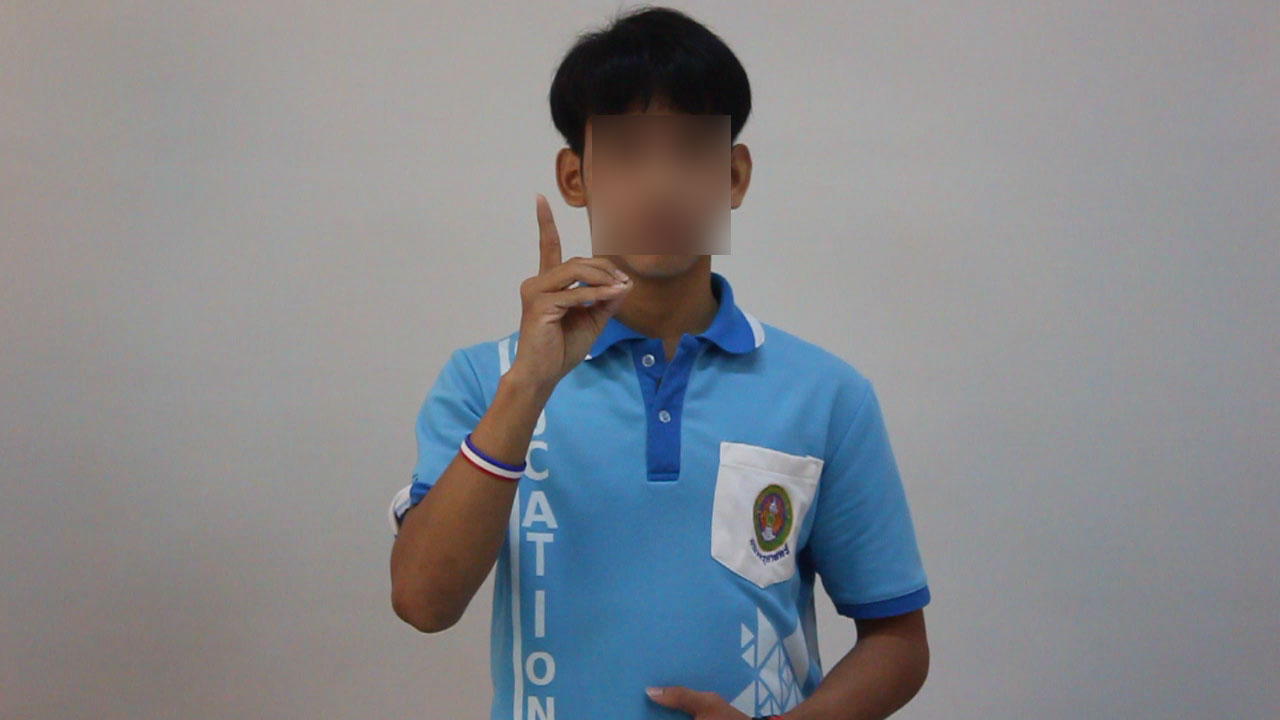dor: (502, 187, 640, 380)
